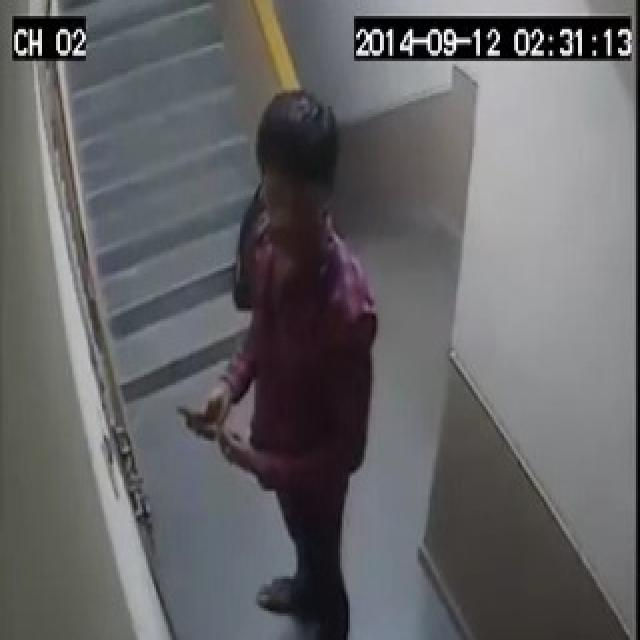thief: (214, 63, 395, 640)
